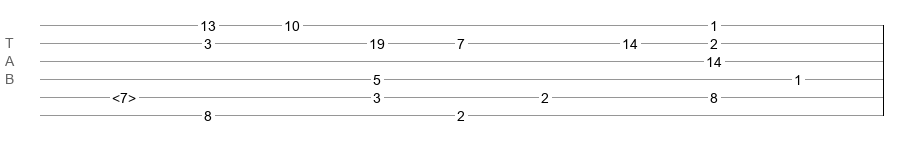1: (710, 18, 718, 28), (794, 72, 802, 82)
10: (284, 18, 300, 28)
13: (200, 18, 216, 28)
14: (622, 36, 638, 46), (706, 54, 722, 64)
19: (369, 36, 385, 46)
2: (457, 108, 465, 118), (541, 90, 549, 100), (710, 36, 718, 46)
3: (204, 36, 212, 46), (373, 90, 381, 100)
5: (373, 72, 381, 82)
7: (457, 36, 465, 46)
8: (204, 108, 212, 118), (710, 90, 718, 100)
harmonic: (112, 90, 136, 100)
